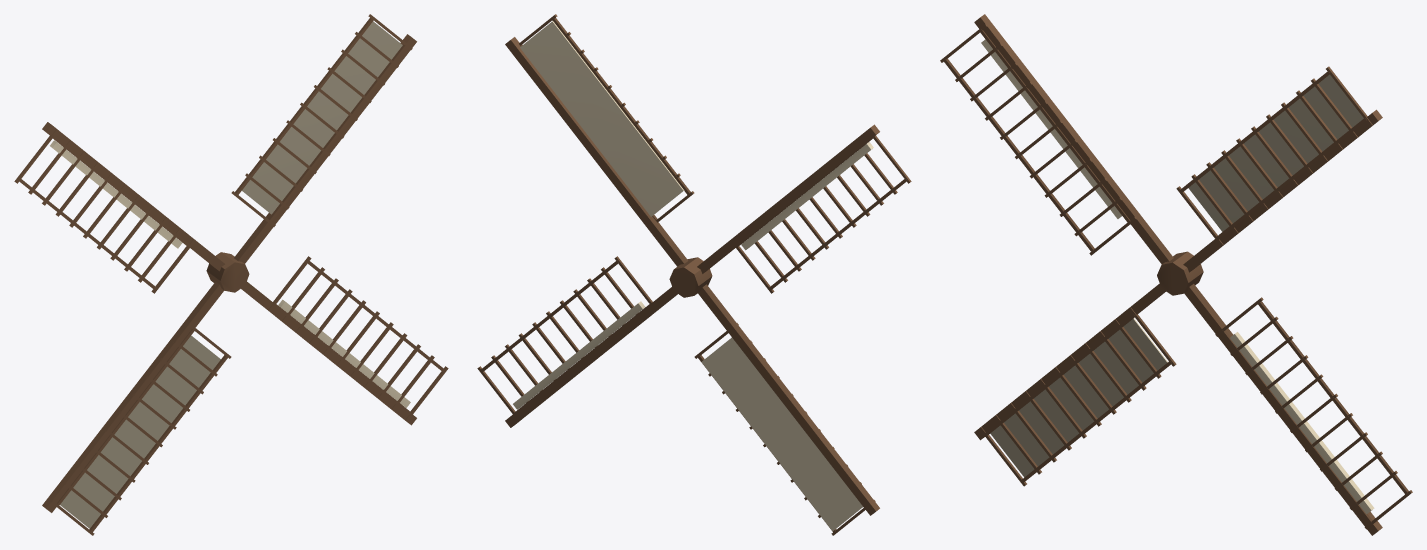
The model's file is windmill_sails.glb.
The picture shows the model from 3 angles, left to right: view 1: azimuth 30°, elevation 25°; view 2: azimuth 150°, elevation 25°; view 3: azimuth 330°, elevation 25°; orthographic projection. The views are drawn at different scales.
Visible parts, largest first — view 1: windmill_sails; view 2: windmill_sails; view 3: windmill_sails.
Boxes of the visible parts, x1,y1,x2,y2 form: windmill_sails: [14, 14, 448, 535]; windmill_sails: [477, 14, 911, 535]; windmill_sails: [940, 14, 1412, 535].
Size of the model in its own units: 10.72 by 10.72 by 0.6.
